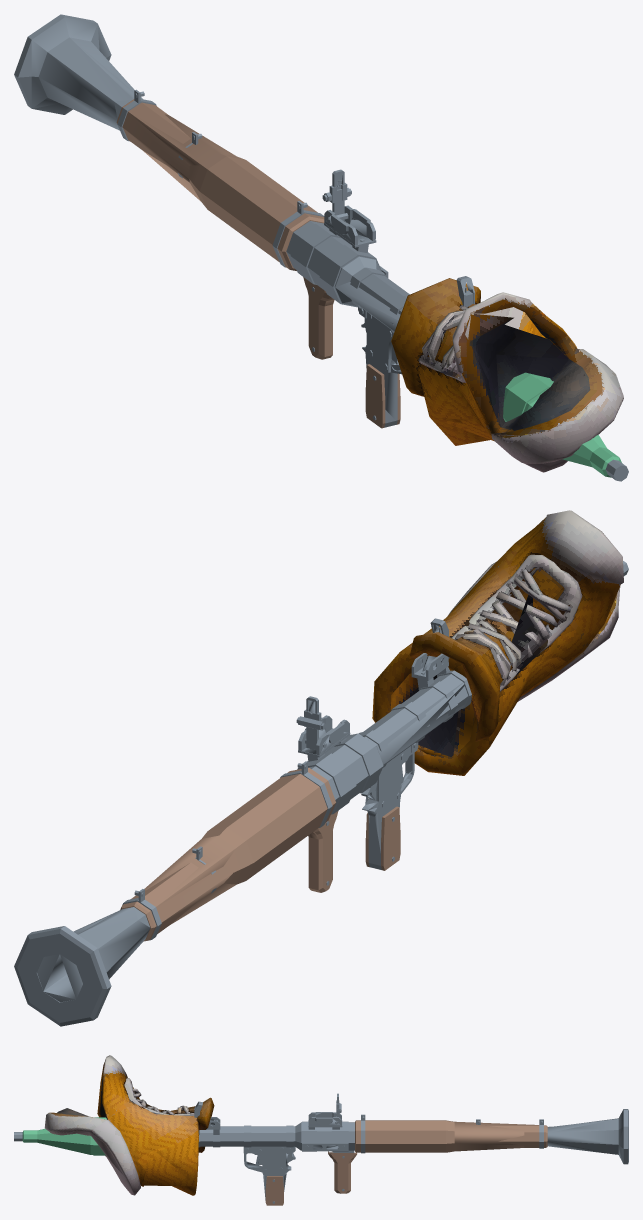
Rendered from item_rpg.glb.
3 views of the same model, one above another, from view 1: azimuth 30°, elevation 25°; view 2: azimuth 150°, elevation 25°; view 3: azimuth 270°, elevation 25° (orthographic). The views are drawn at different scales.
Visible parts, largest first — view 1: RPG_ShoeRocket, RPG_submesh_0, RPG_submesh_1, Rocket_submesh_0; view 2: RPG_ShoeRocket, RPG_submesh_0, RPG_submesh_1; view 3: RPG_ShoeRocket, RPG_submesh_0, RPG_submesh_1, Rocket_submesh_0.
Part boxes in pixels (x1,y1,x2,y2): RPG_ShoeRocket: (391,278,623,472); RPG_submesh_0: (14,14,474,427); RPG_submesh_1: (116,99,400,428); Rocket_submesh_0: (503,372,621,477); RPG_ShoeRocket: (372,510,623,775); RPG_submesh_0: (14,618,471,1026); RPG_submesh_1: (120,767,400,941); RPG_ShoeRocket: (44,1055,214,1195); RPG_submesh_0: (194,1093,628,1203); RPG_submesh_1: (265,1120,547,1205); Rocket_submesh_0: (22,1117,106,1155).
Bounding box in the file's own units: 0.3337 × 0.4588 × 1.87.
Materials: 6 (3 with a texture image).
